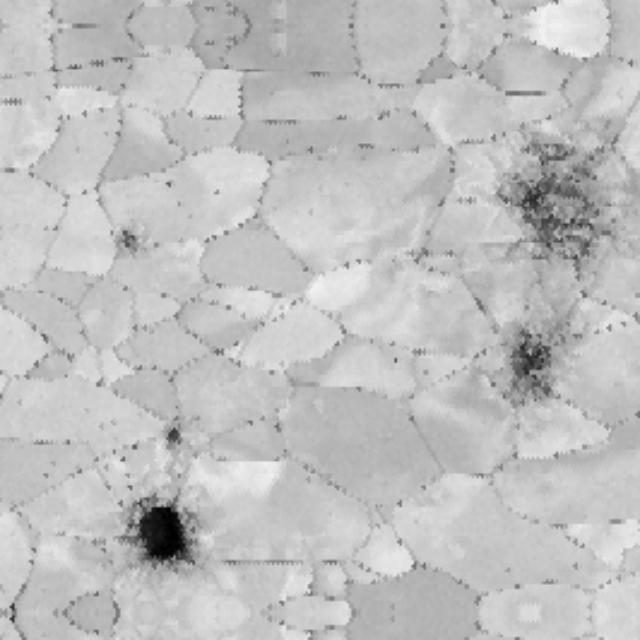good_void: (482, 136, 631, 278), (494, 304, 585, 411), (119, 483, 210, 579), (90, 220, 160, 264), (161, 419, 186, 458), (384, 350, 418, 370), (207, 183, 232, 203), (155, 176, 182, 193)
